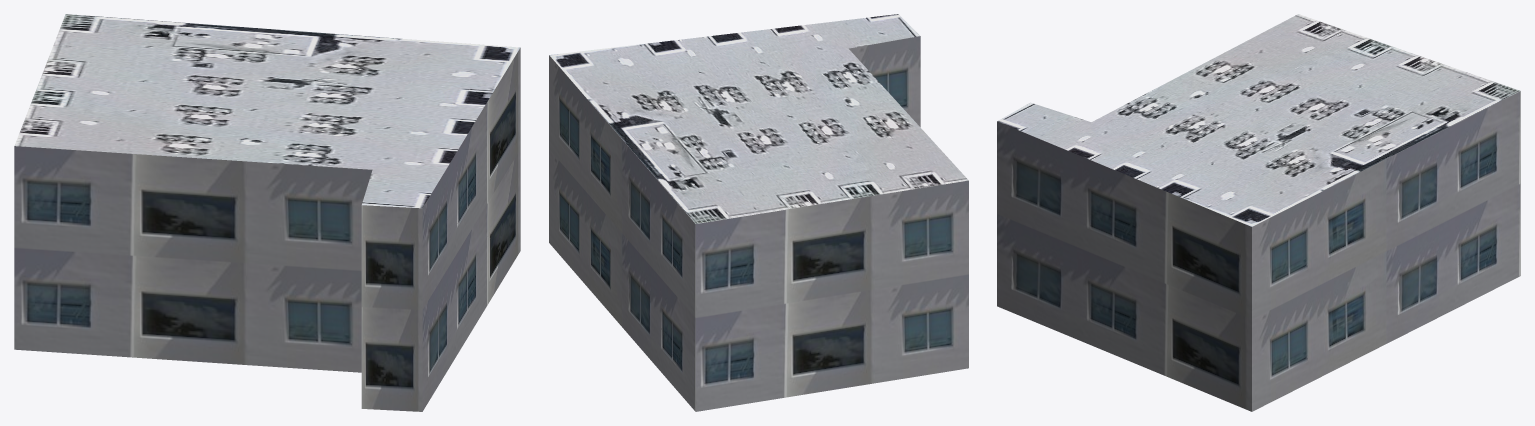
File: ResTex__933.fbx
3 renders of one model, left to right at view 1: azimuth 30°, elevation 25°; view 2: azimuth 150°, elevation 25°; view 3: azimuth 270°, elevation 25°, orthographic. The views are drawn at different scales.
Visible parts, largest first — view 1: CityEngineMaterial_10_m, CityEngineMaterial_m; view 2: CityEngineMaterial_10_m, CityEngineMaterial_m; view 3: CityEngineMaterial_10_m, CityEngineMaterial_m.
Part boxes in pixels (x1,y1,x2,y2): CityEngineMaterial_10_m: [14, 48, 520, 411]; CityEngineMaterial_m: [14, 14, 520, 208]; CityEngineMaterial_10_m: [549, 36, 968, 411]; CityEngineMaterial_m: [549, 14, 968, 223]; CityEngineMaterial_10_m: [997, 91, 1520, 411]; CityEngineMaterial_m: [997, 14, 1520, 226].
Size of the model in its own units: 14.82 by 6 by 15.4.
Materials: 2 (2 with a texture image).
